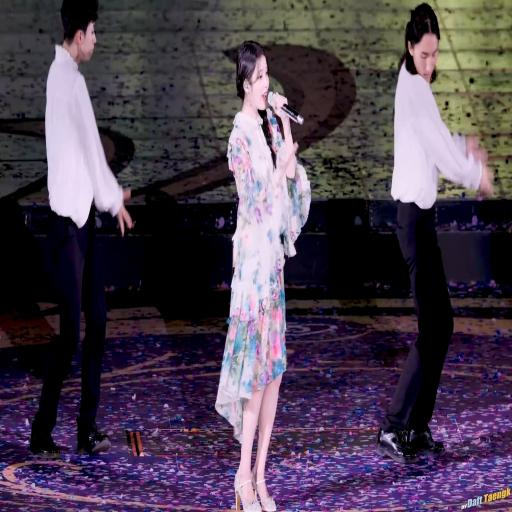IU: (235, 41, 271, 112)
